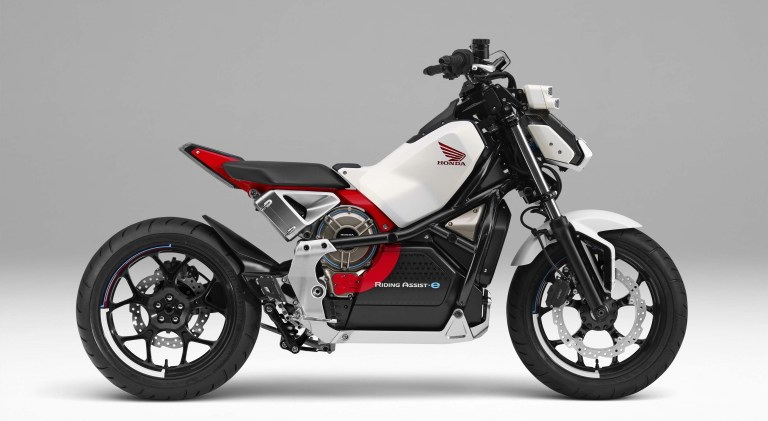motorcycle: (76, 40, 689, 398)
